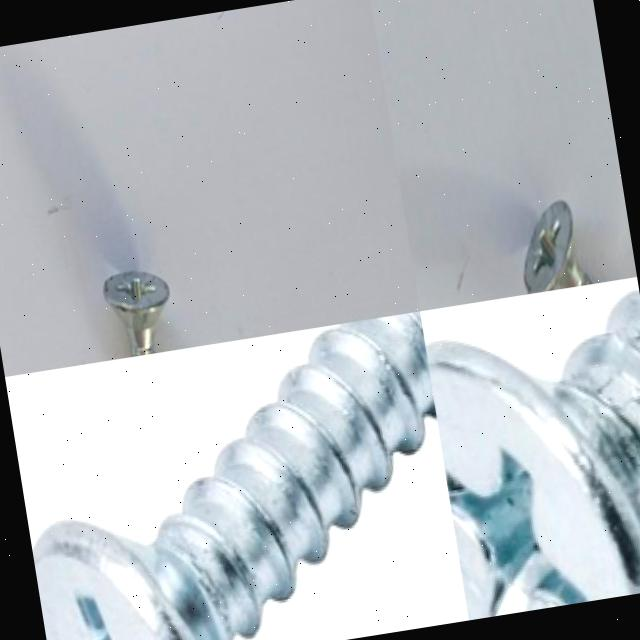Screw: (34, 311, 437, 640), (426, 292, 640, 620), (524, 200, 594, 294), (104, 271, 169, 357)
